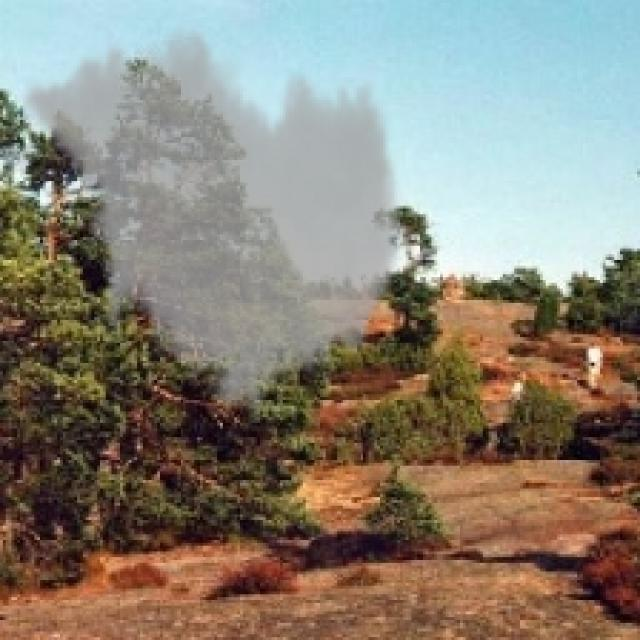Smoke: (20, 14, 409, 423)
